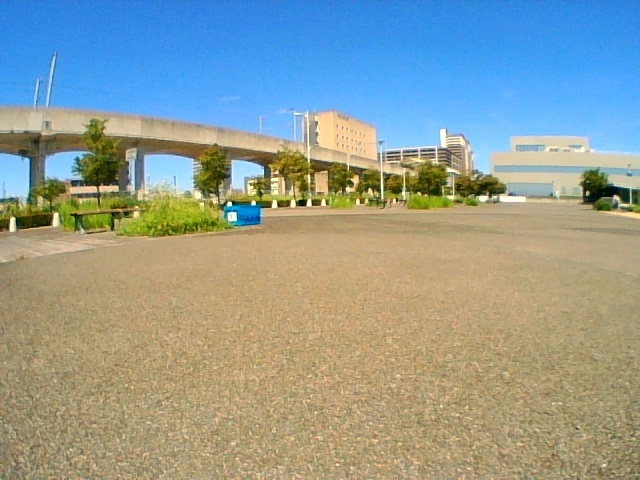blue_box: (225, 206, 260, 226)
tag: (228, 211, 236, 222)
